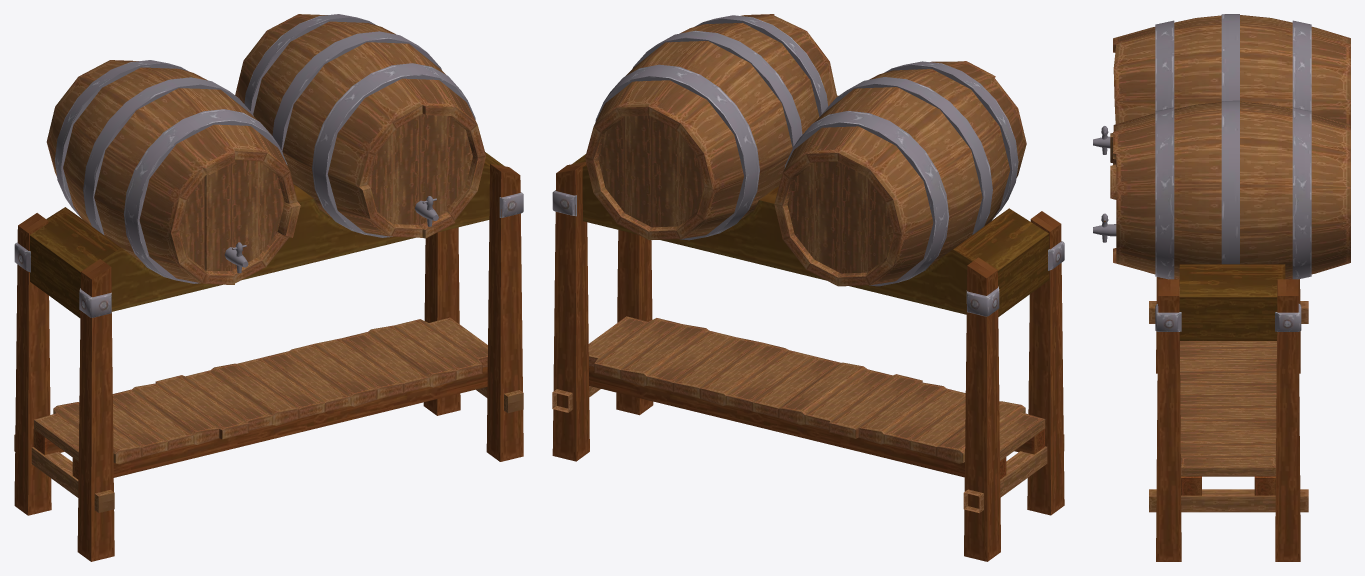
Rendered from Barrel_Holder.glb.
3 views of the same model, side by side, from view 1: azimuth 30°, elevation 25°; view 2: azimuth 150°, elevation 25°; view 3: azimuth 270°, elevation 25° (orthographic). The views are drawn at different scales.
Parts seen in each view (by area): view 1: Barrel_Holder; view 2: Barrel_Holder; view 3: Barrel_Holder.
Part boxes in pixels (x1=…): Barrel_Holder: x1=14, y1=14, x2=523, y2=561; Barrel_Holder: x1=552, y1=14, x2=1064, y2=561; Barrel_Holder: x1=1093, y1=14, x2=1350, y2=561.
Size of the model in its own units: 1.36 by 1.26 by 0.741.
2 materials, 2 textured.
